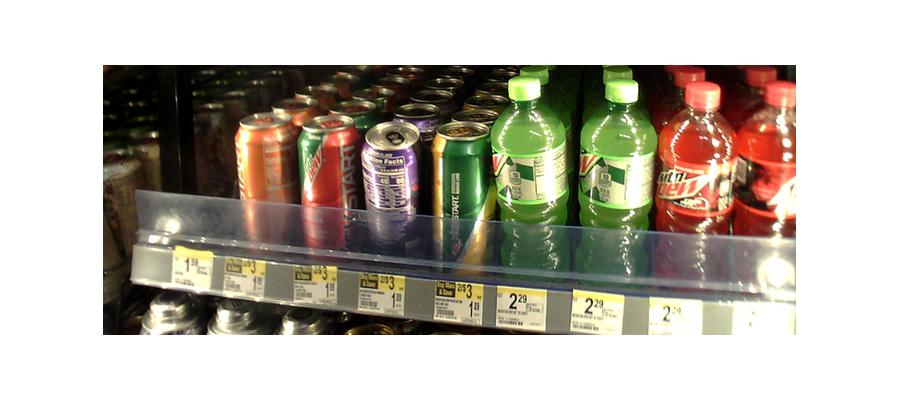bottle: (578, 78, 653, 281), (658, 77, 733, 280), (495, 75, 570, 274), (734, 74, 796, 275), (431, 122, 491, 269), (362, 118, 421, 257), (235, 108, 294, 247), (298, 113, 356, 253)
